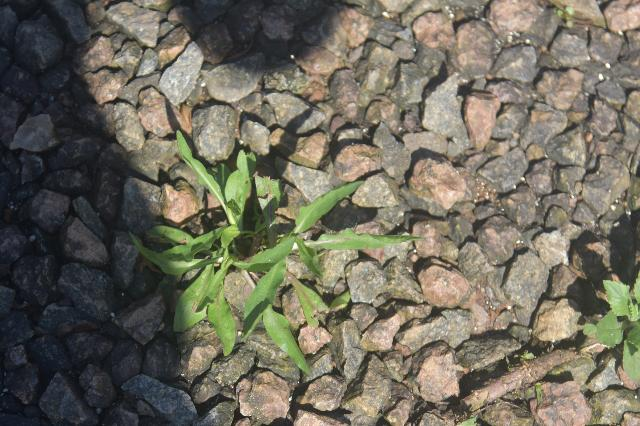MalezaMontesDelPlata: (125, 115, 441, 383), (570, 254, 640, 391)
